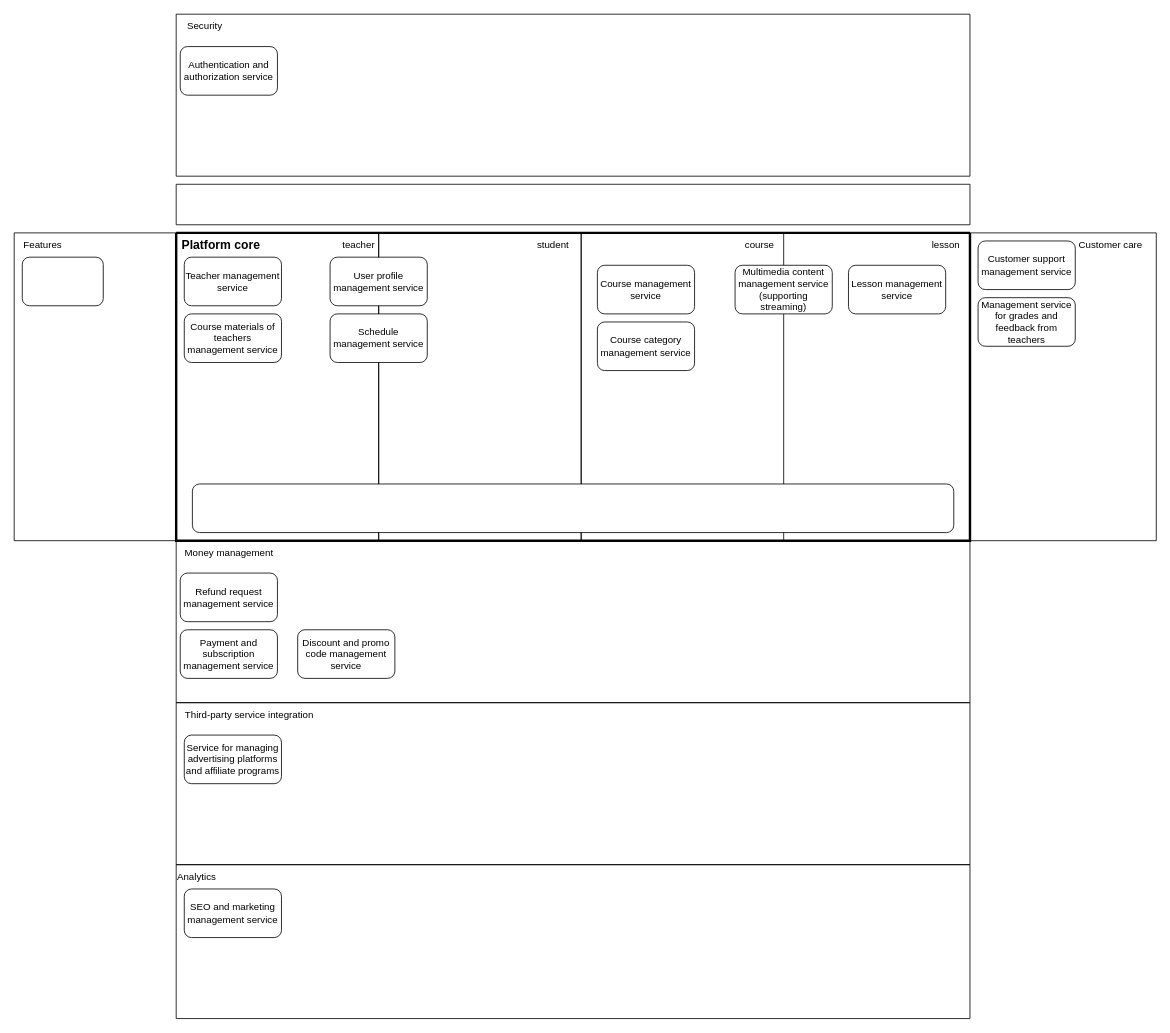
The diagram is 1170 pixels wide and 1033 high, and some of its shapes have lost their labels. The shapes that lost their labels are listed below. From the top down, each one's box as (x1, y1, x2, y2) in pixels, then its label:
(175, 183, 970, 225): Admining and moderation
(21, 256, 103, 306): Service for localization and translation management
(192, 483, 954, 533): Mailing and notification management service
